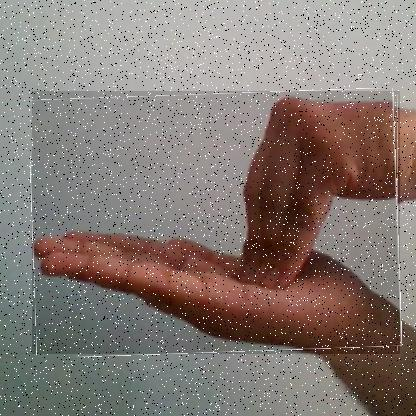Z: (31, 91, 400, 355)
